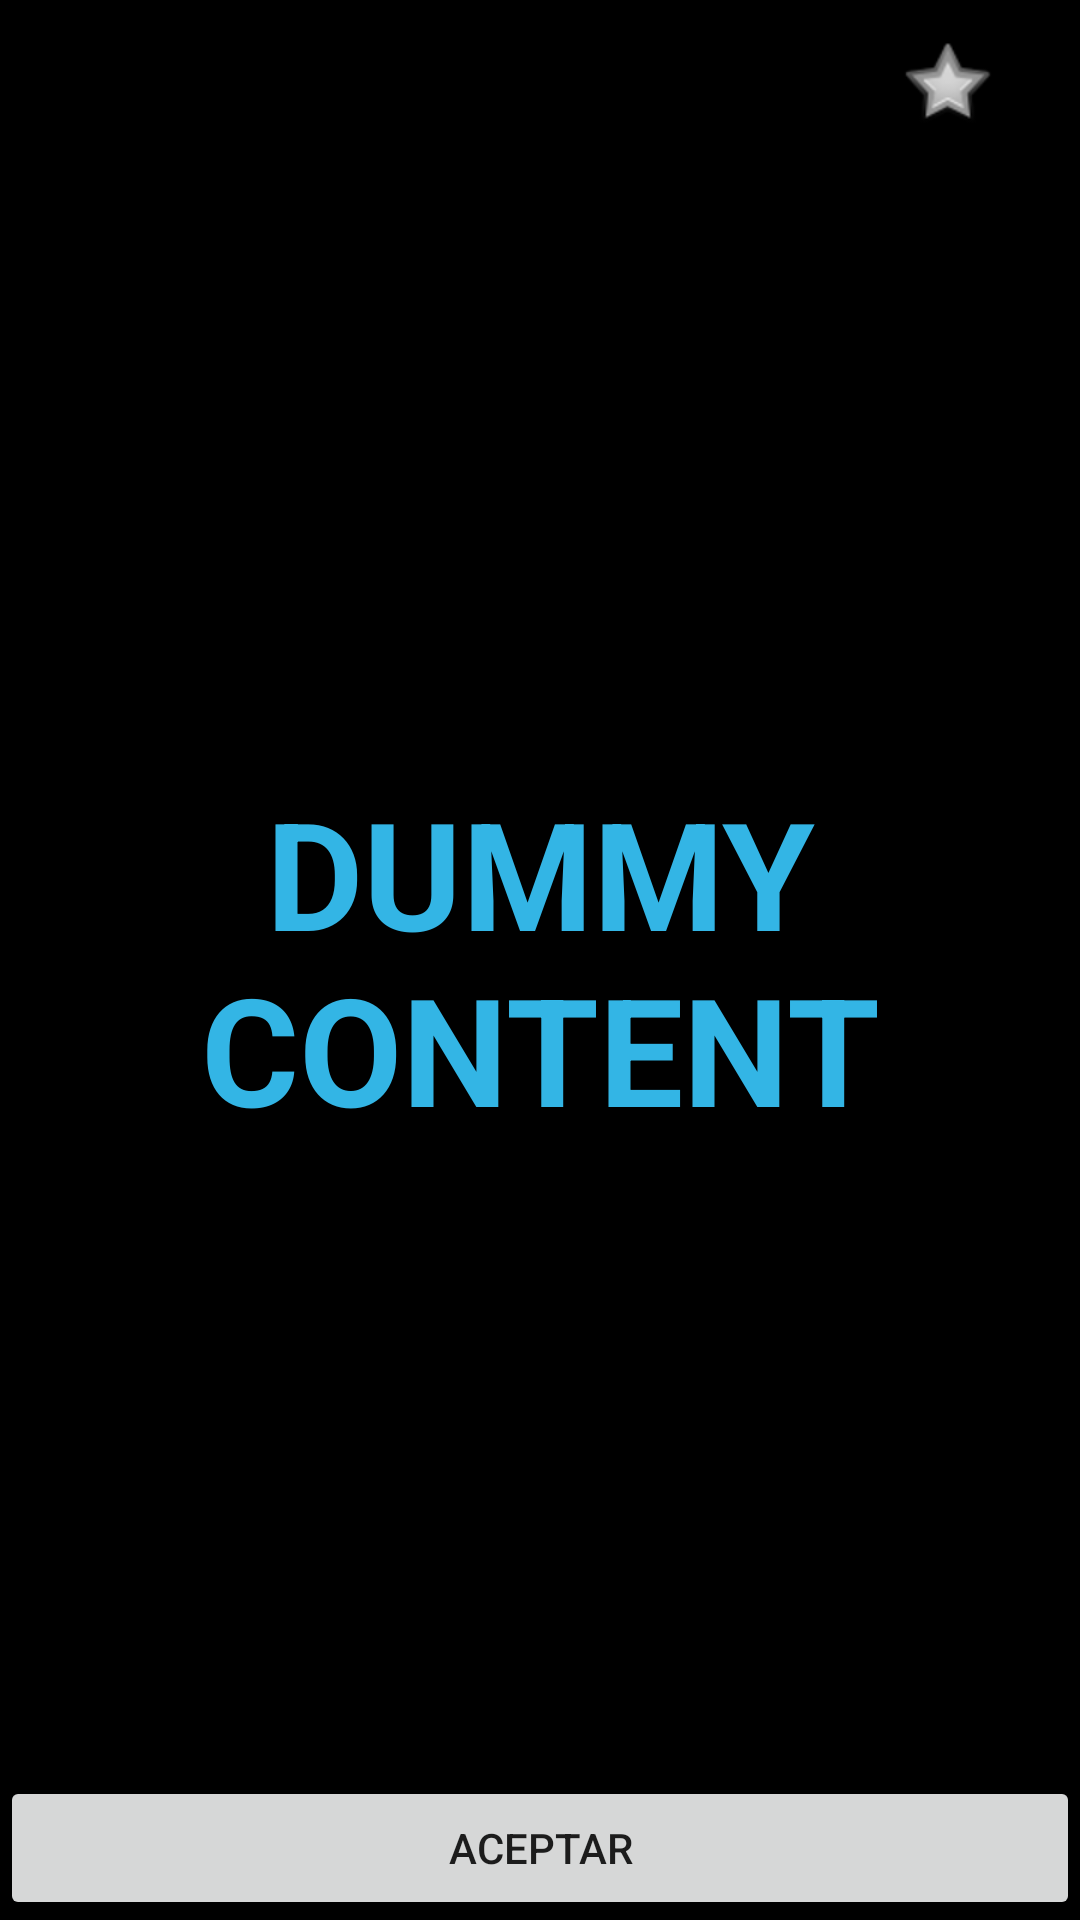

Point at icon controls on the screen. Image size 1080px x 1920px, points as [x,y].
star: [948,80]
